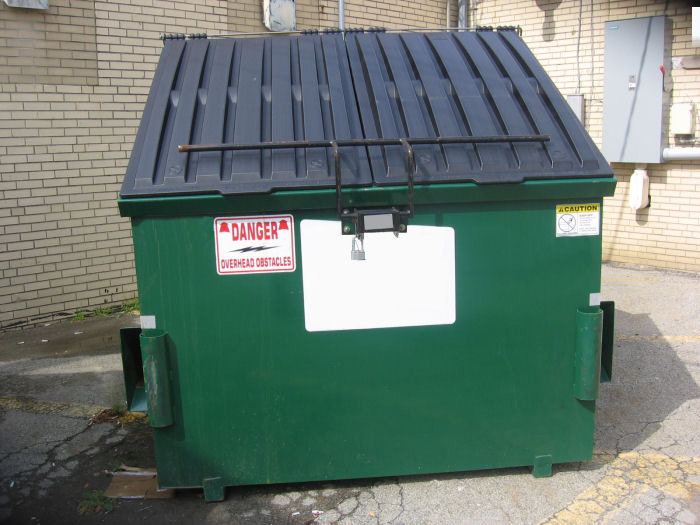Dumpster: (116, 24, 632, 501)
